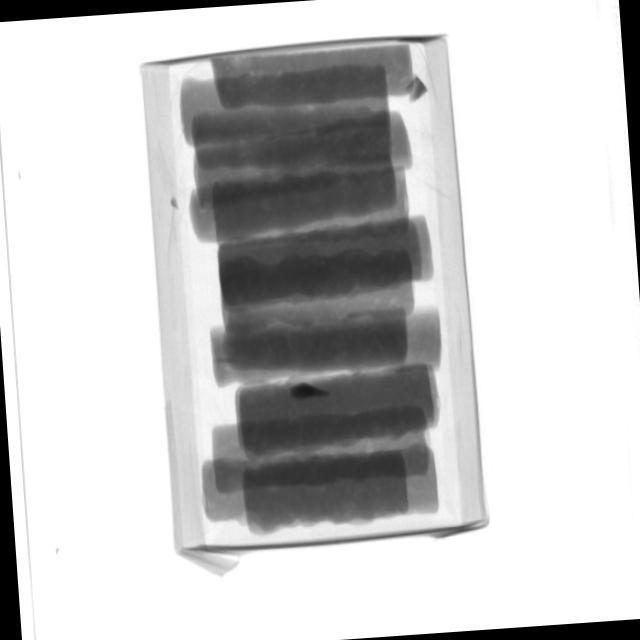ym: (289, 381, 329, 401), (407, 74, 429, 103), (168, 194, 181, 217)
